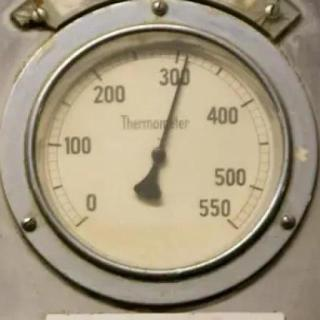gauge: (20, 17, 305, 287), (65, 188, 115, 238), (203, 194, 251, 242), (21, 313, 259, 319), (150, 147, 166, 165), (179, 51, 193, 69)
